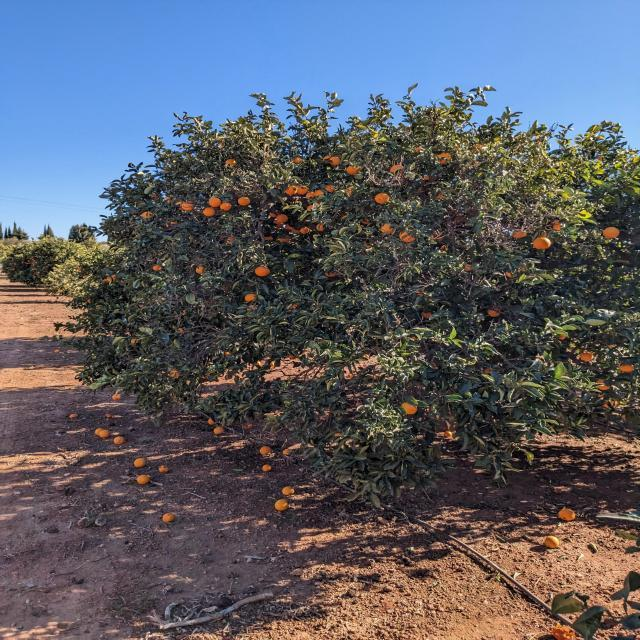Jeruk Sudah Matang: (399, 228, 420, 244), (401, 400, 418, 416), (550, 217, 568, 232), (324, 264, 342, 278), (434, 151, 452, 165), (374, 192, 392, 206), (604, 226, 622, 240), (617, 361, 636, 374), (389, 164, 406, 178), (534, 237, 552, 250), (382, 222, 399, 235), (601, 397, 618, 409), (255, 265, 271, 277), (486, 306, 502, 318), (244, 292, 259, 304), (577, 352, 595, 362), (594, 378, 610, 389), (448, 213, 464, 224), (345, 164, 362, 174), (259, 445, 273, 457), (327, 156, 343, 166), (512, 228, 528, 238), (421, 310, 434, 322), (473, 143, 487, 154), (415, 285, 429, 296), (181, 200, 196, 210), (430, 231, 443, 242), (166, 219, 180, 229), (208, 197, 222, 207), (238, 196, 252, 206), (450, 144, 464, 154), (465, 158, 479, 168), (276, 214, 290, 224), (463, 262, 475, 273), (168, 370, 181, 380), (286, 302, 299, 312), (203, 206, 216, 216), (412, 144, 425, 154), (423, 174, 439, 182), (268, 208, 282, 217), (284, 222, 298, 231), (426, 293, 440, 302), (174, 201, 186, 211), (247, 304, 259, 314), (207, 416, 219, 426), (432, 190, 447, 198), (279, 234, 292, 243), (288, 226, 302, 234), (226, 236, 237, 246), (273, 218, 284, 228), (558, 330, 569, 340), (606, 338, 617, 348), (196, 265, 208, 274), (220, 202, 232, 211), (361, 215, 373, 224), (142, 212, 155, 220), (225, 158, 238, 166), (262, 464, 275, 472), (247, 279, 260, 287), (409, 332, 422, 340), (310, 202, 327, 208), (322, 154, 332, 164), (306, 204, 316, 214), (438, 244, 449, 253), (485, 367, 496, 376), (106, 275, 118, 283), (299, 227, 311, 235), (364, 239, 374, 248), (152, 263, 163, 271), (332, 431, 343, 439), (283, 448, 294, 456), (213, 426, 224, 434), (261, 233, 272, 241), (166, 196, 176, 204), (222, 350, 232, 358), (316, 224, 326, 232), (288, 353, 298, 361), (596, 390, 606, 398), (622, 412, 632, 420), (155, 297, 167, 303), (131, 338, 140, 346), (242, 422, 252, 429), (294, 156, 304, 163), (418, 184, 426, 192), (444, 430, 452, 438), (138, 302, 146, 309), (132, 210, 140, 217), (178, 327, 187, 333), (154, 194, 162, 200), (376, 344, 384, 350), (96, 305, 103, 311), (599, 154, 606, 160), (255, 361, 262, 366), (120, 280, 128, 284), (76, 266, 82, 271), (102, 277, 108, 282), (105, 264, 112, 268), (83, 275, 89, 279), (269, 362, 275, 366), (88, 299, 91, 303)
